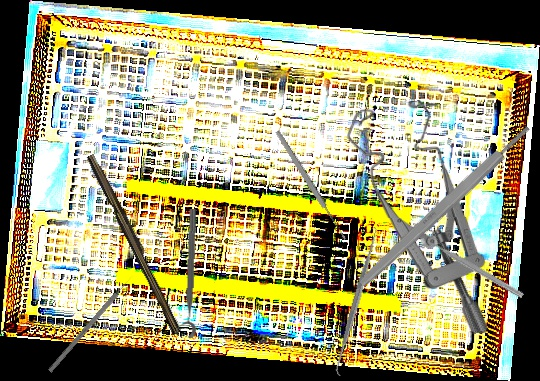Fixation Ring: (419, 227, 529, 302), (174, 208, 201, 339)
Hook Surgical: (47, 274, 135, 373)
Scalpel Handle: (356, 123, 534, 289), (83, 151, 187, 336)
Spatula Surgical: (327, 225, 386, 378)
Speculum: (345, 99, 491, 336)
Surgical Spoon: (274, 129, 348, 242)
